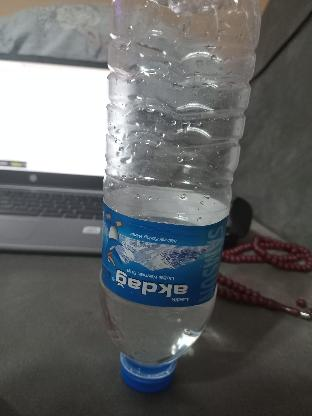Plastic Bottle: (100, 2, 254, 393)
